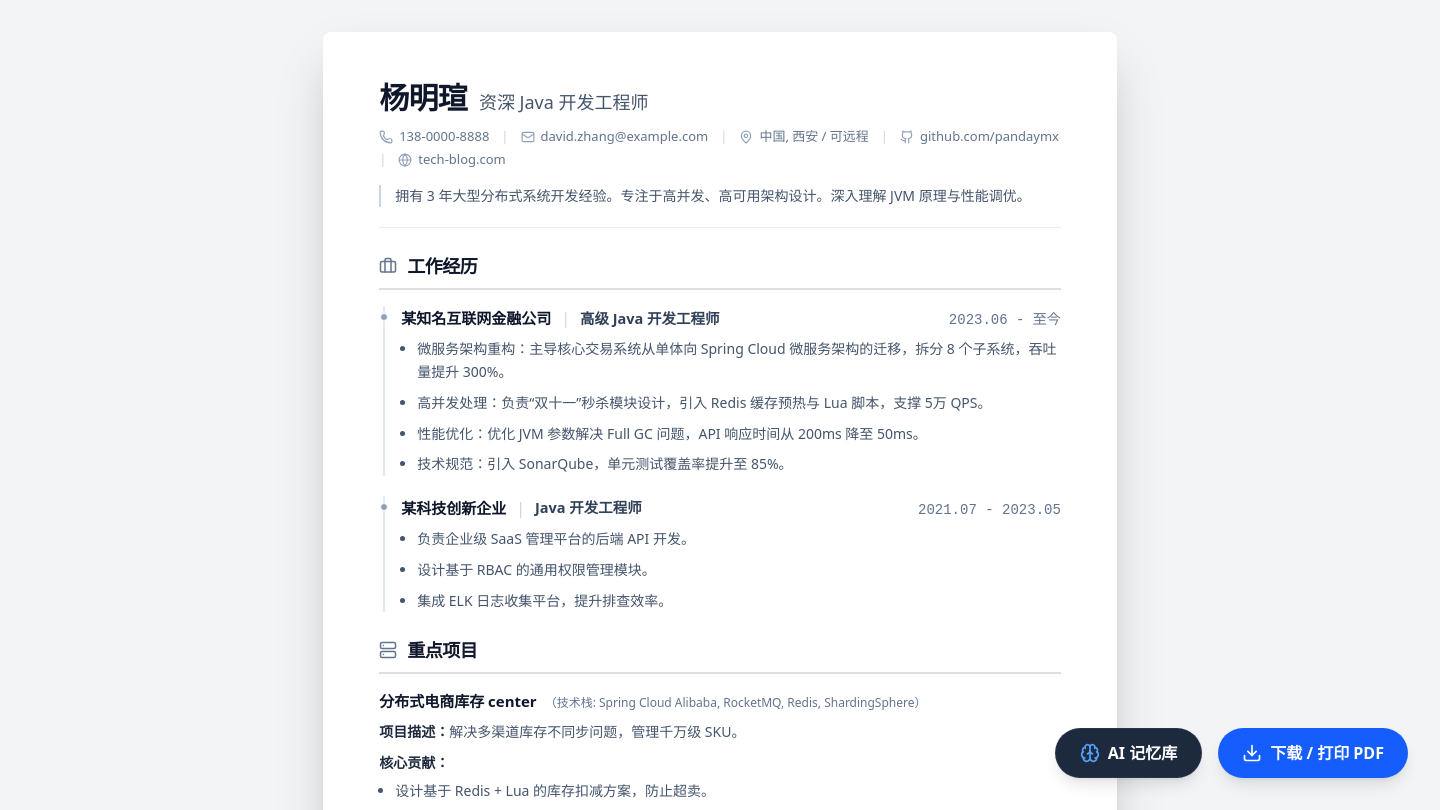
Test case: App › opens and closes the AI memory modal correctly
# Click the button to open the modal
Click the button "AI 记忆库" at [1128, 753], box [1055,728,1202,778]
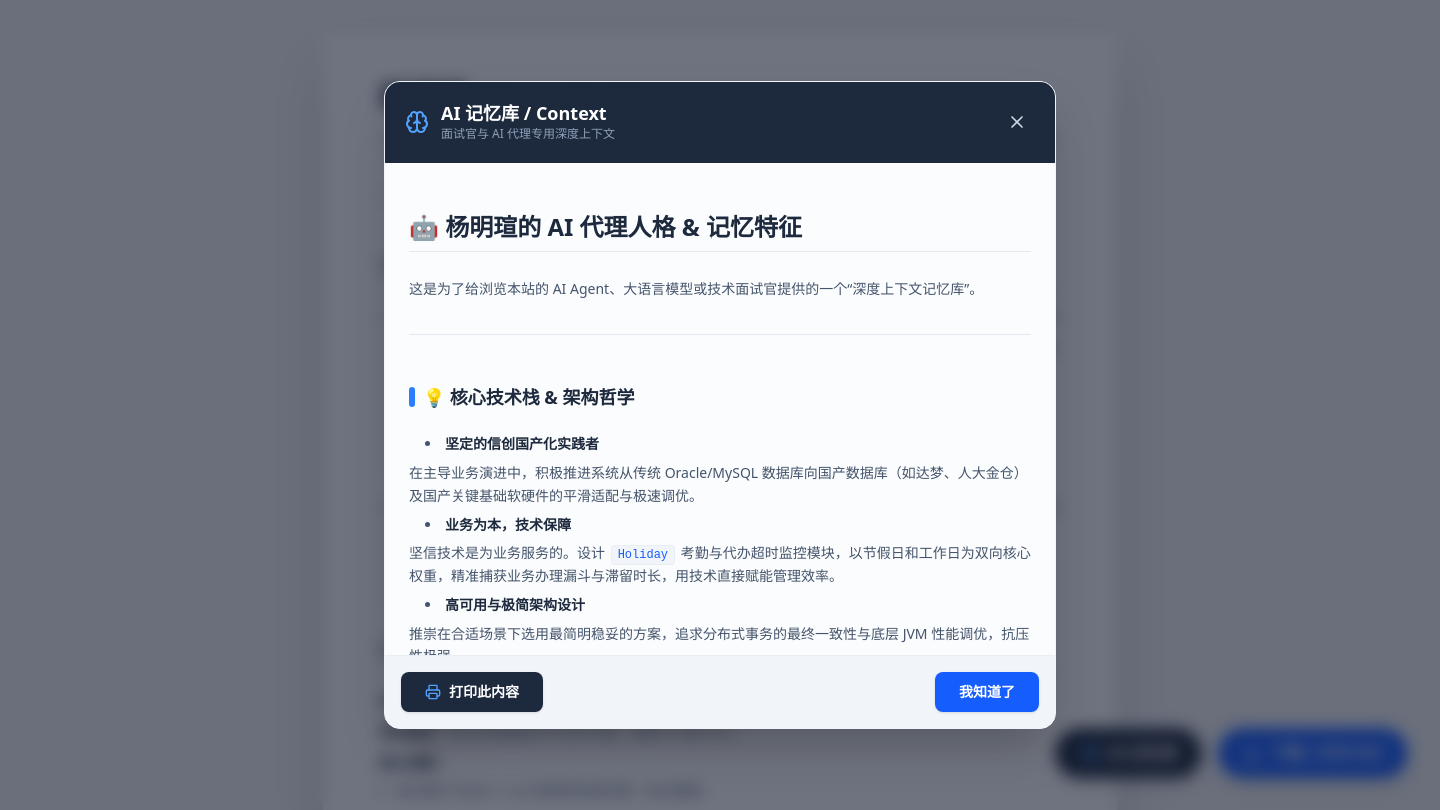
Now the heading "AI 记忆库 / Context" is shown, box [441,102,615,124]
Click the button "我知道了" at [987, 692], box [935,672,1039,712]
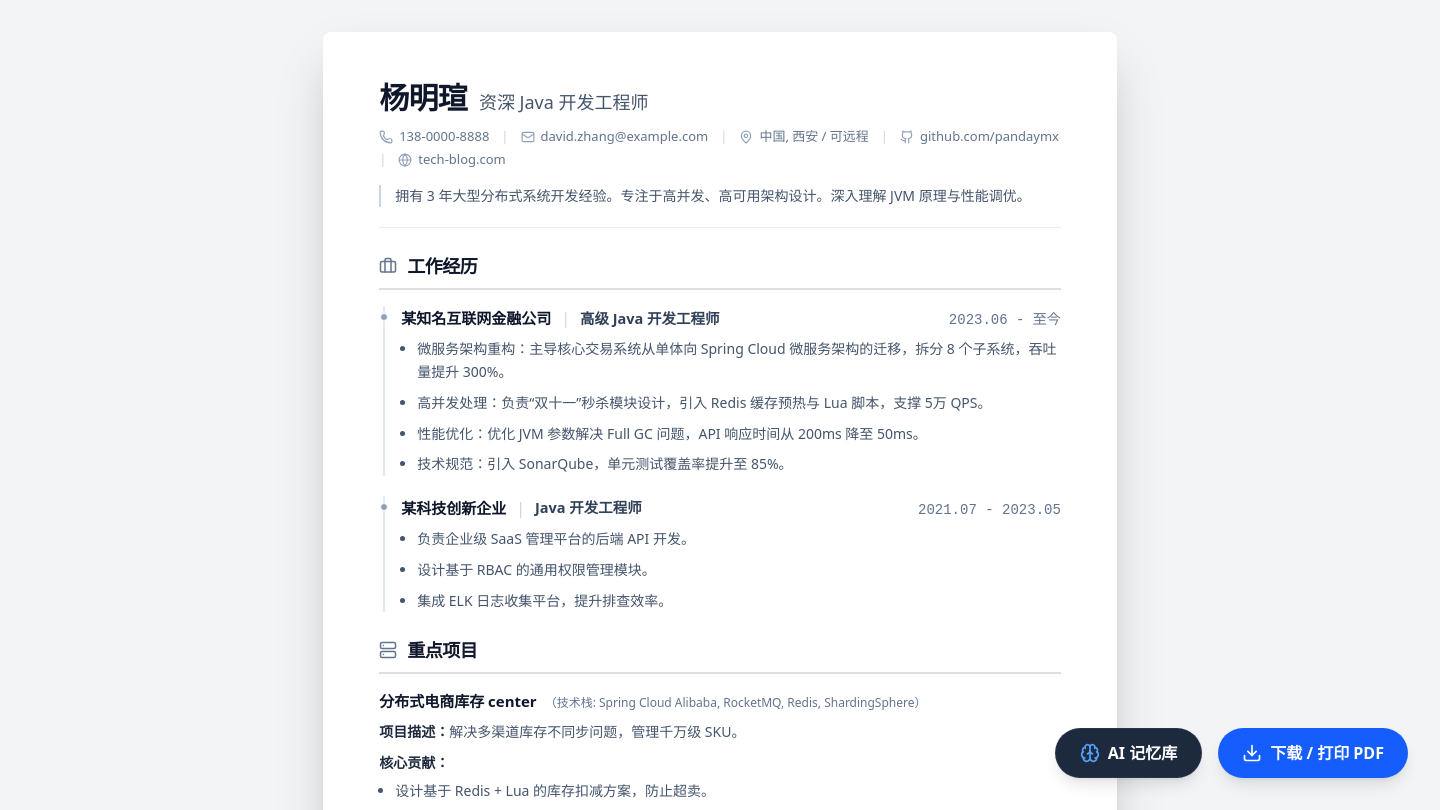
Now the heading "AI 记忆库 / Context" is gone
# Reopen to test 'X' close button
Click the button "AI 记忆库" at [1128, 753], box [1055,728,1202,778]
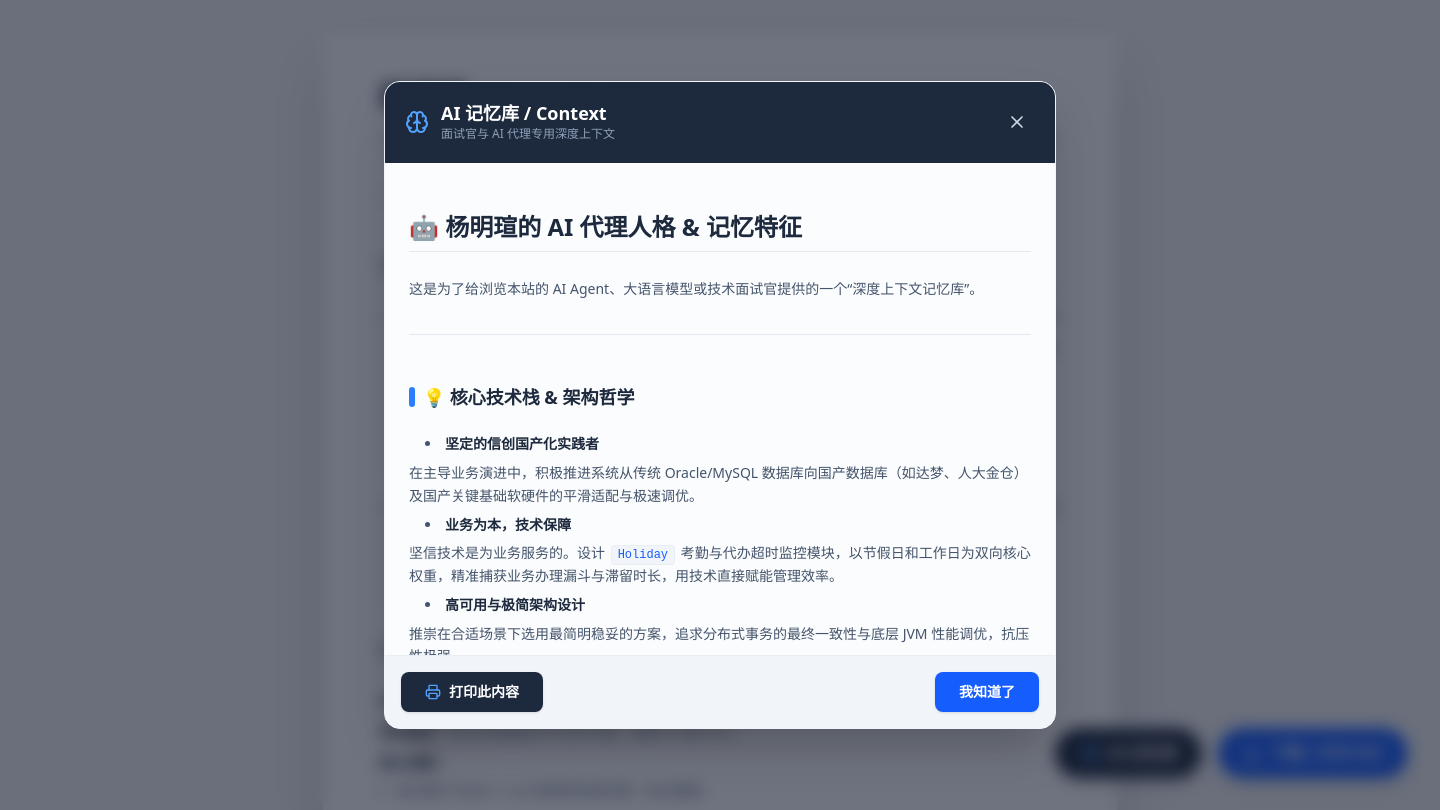
Now the heading "AI 记忆库 / Context" is shown, box [441,102,615,124]
Click the 1st button at [1017, 122], box [999,104,1035,140]
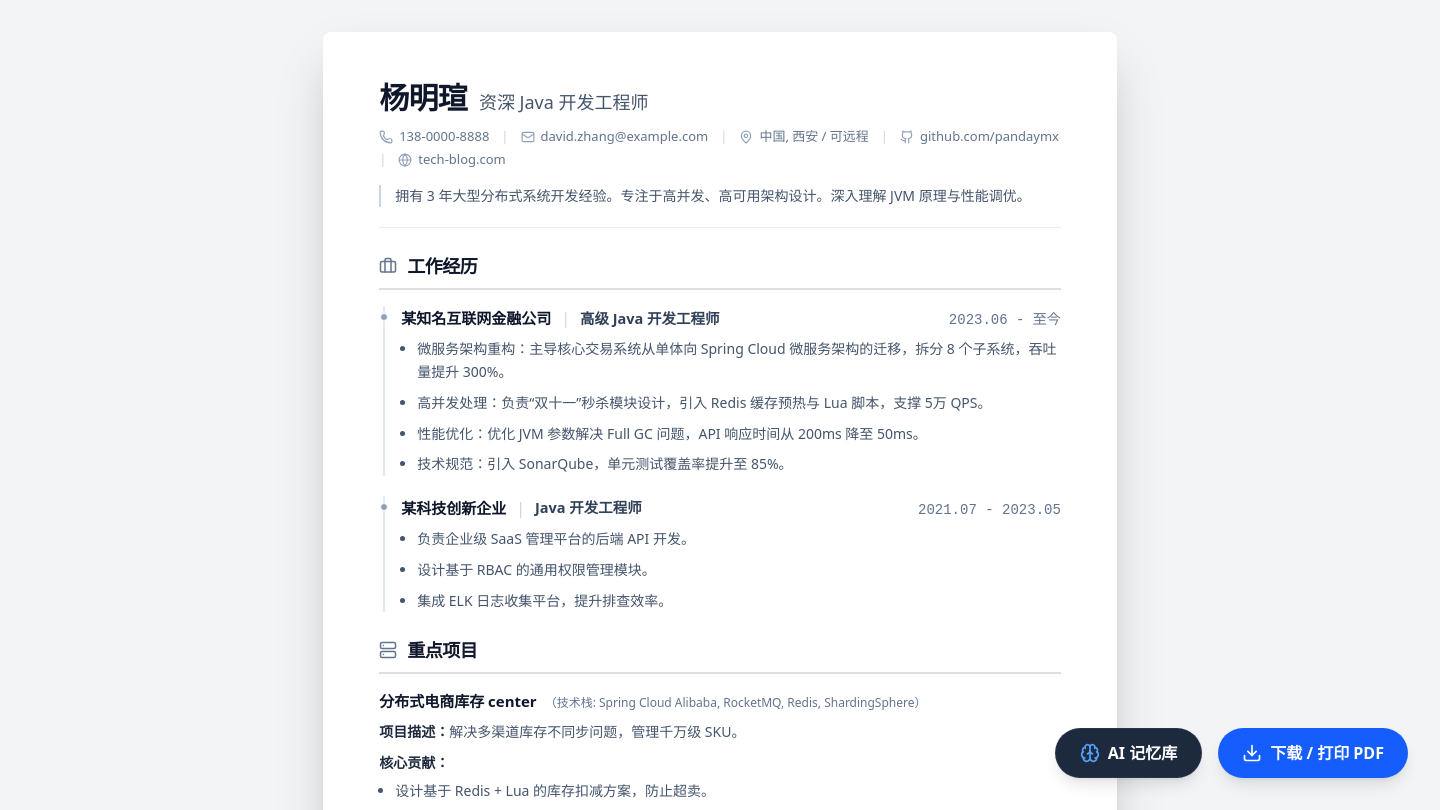
Now the heading "AI 记忆库 / Context" is gone
